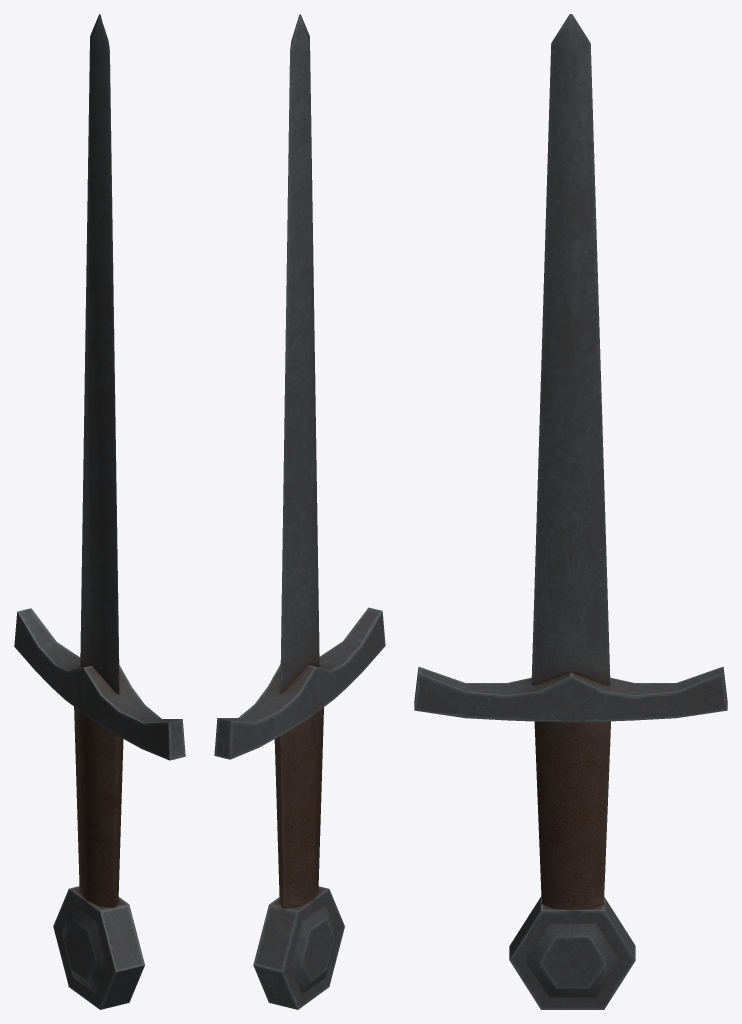
File: dagger.fbx
The picture shows the model from 3 angles, left to right: view 1: azimuth 30°, elevation 25°; view 2: azimuth 150°, elevation 25°; view 3: azimuth 270°, elevation 25°; orthographic projection.
Visible parts, largest first — view 1: dagger; view 2: dagger; view 3: dagger.
Part boxes in pixels (x1=…): dagger: x1=14, y1=14, x2=185, y2=1009; dagger: x1=214, y1=14, x2=385, y2=1009; dagger: x1=414, y1=14, x2=727, y2=1009.
Size of the model in its own units: 3.31 by 79.4 by 22.83.
